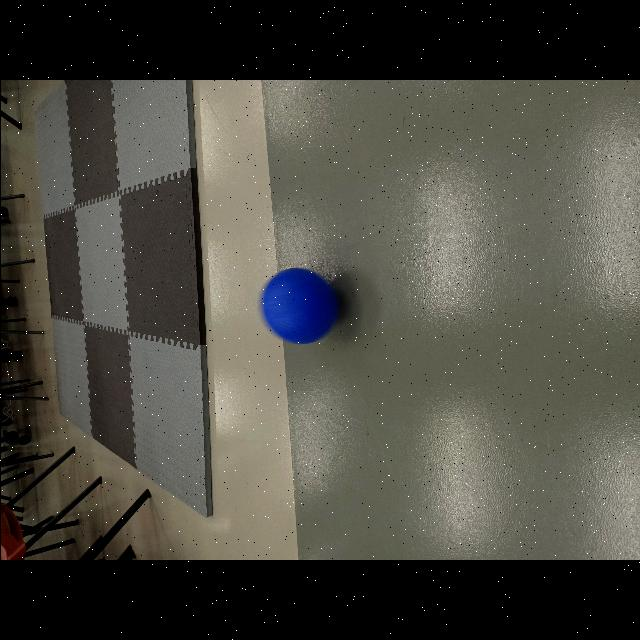B: (255, 266, 347, 346)
